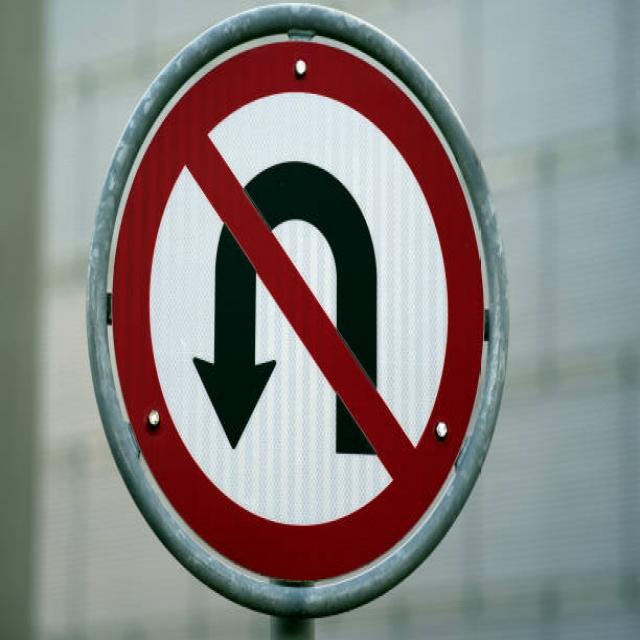no u turn: (76, 0, 512, 623)
